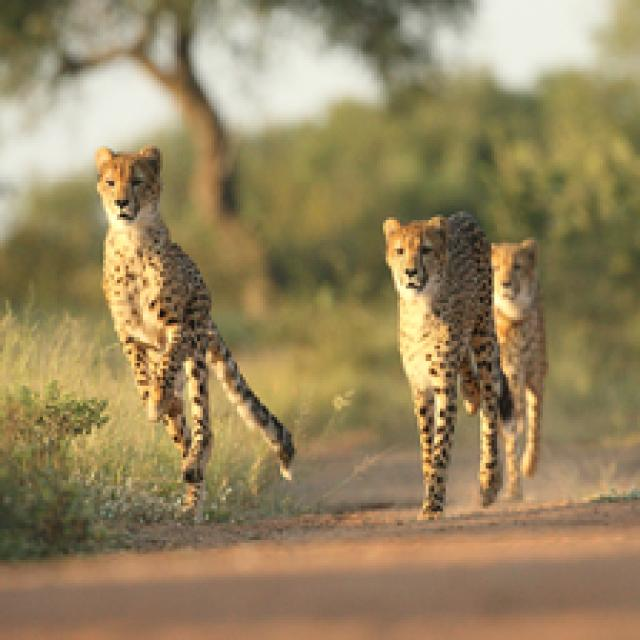cheetah: (78, 149, 294, 493), (329, 203, 510, 507), (482, 222, 556, 476)
